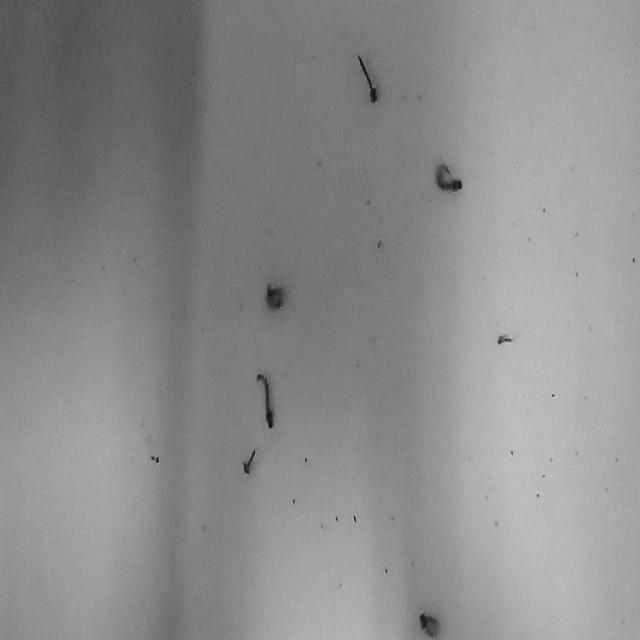larvas: (256, 370, 276, 428), (356, 53, 378, 104), (434, 161, 462, 192), (418, 610, 439, 640), (264, 282, 283, 308), (242, 447, 255, 475), (497, 333, 517, 345)
